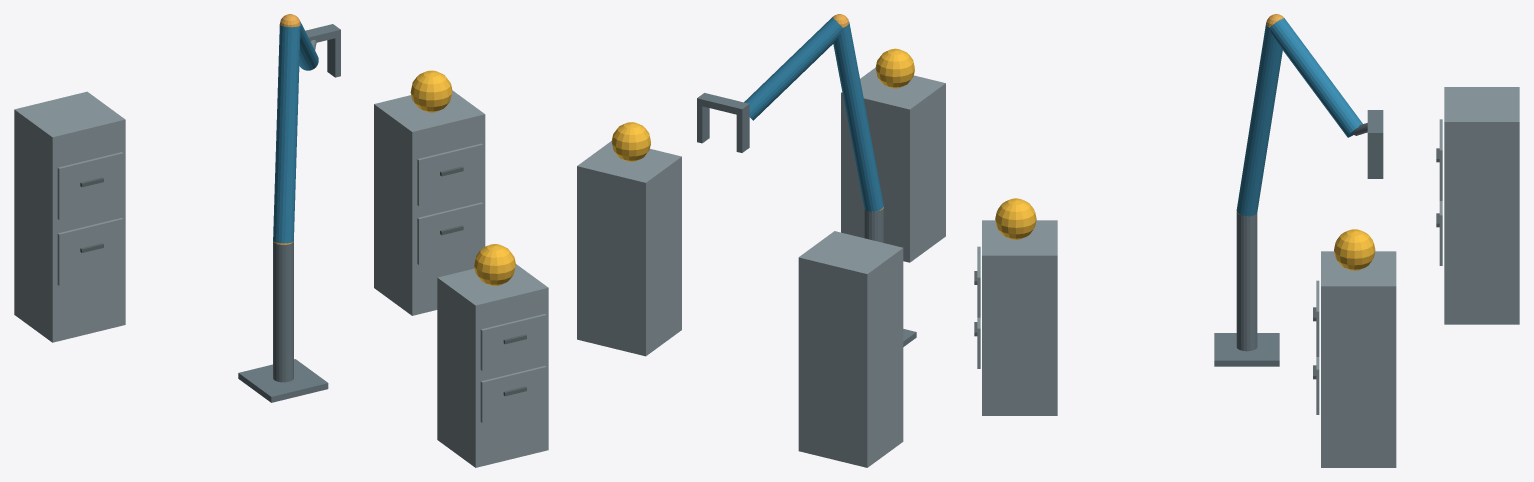
The picture shows the model from 3 angles, left to right: view 1: azimuth 30°, elevation 25°; view 2: azimuth 150°, elevation 25°; view 3: azimuth 270°, elevation 25°; orthographic projection. The views are drawn at different scales.
Parts seen in each view (by area): view 1: cabinet_3 body, cabinet_1 body, cabinet_2 body, moving link 1, cabinet_3 drawer front, cabinet_3 drawer front.001, cabinet_2 drawer front.001, cabinet_2 drawer front, fixed post, cabinet_1 drawer front, cabinet_1 drawer front.001, pedestal (+3 smaller); view 2: cabinet_3 body, cabinet_2 body, cabinet_1 body, moving link 1, moving link 2, ball ball_2, released ball_1, gripper bridge, fixed post, gripper finger -1, gripper finger 1; view 3: cabinet_3 body, cabinet_2 body, cabinet_1 body, moving link 1, fixed post, moving link 2, pedestal, released ball_1, ball ball_2, gripper finger 1.
Part boxes in pixels (x1,y1,x2,y2): cabinet_3 body: [14, 91, 125, 342]; cabinet_1 body: [437, 264, 548, 467]; cabinet_2 body: [374, 90, 485, 315]; moving link 1: [273, 24, 300, 243]; cabinet_3 drawer front: [57, 218, 123, 285]; cabinet_3 drawer front.001: [57, 152, 123, 219]; cabinet_2 drawer front.001: [417, 143, 483, 206]; cabinet_2 drawer front: [417, 202, 483, 264]; fixed post: [273, 241, 293, 382]; cabinet_1 drawer front: [480, 366, 546, 422]; cabinet_1 drawer front.001: [480, 314, 546, 370]; pedestal: [238, 359, 328, 402]; cabinet_3 body: [798, 231, 903, 467]; cabinet_2 body: [577, 141, 681, 356]; cabinet_1 body: [841, 67, 945, 262]; moving link 1: [833, 22, 883, 212]; moving link 2: [744, 17, 842, 120]; ball ball_2: [611, 122, 650, 161]; released ball_1: [875, 48, 914, 88]; gripper bridge: [697, 93, 749, 115]; fixed post: [864, 208, 883, 242]; gripper finger -1: [736, 111, 749, 152]; gripper finger 1: [697, 105, 709, 143]; cabinet_3 body: [1444, 87, 1519, 324]; cabinet_2 body: [1321, 251, 1396, 467]; cabinet_1 body: [982, 220, 1057, 415]; moving link 1: [1236, 23, 1282, 216]; fixed post: [1236, 212, 1257, 351]; moving link 2: [1270, 18, 1362, 137]; pedestal: [1214, 333, 1279, 366]; released ball_1: [995, 198, 1036, 239]; ball ball_2: [1334, 229, 1375, 270]; gripper finger 1: [1367, 140, 1383, 178].
Size of the model in its own units: 1.62 by 1.48 by 2.1.
